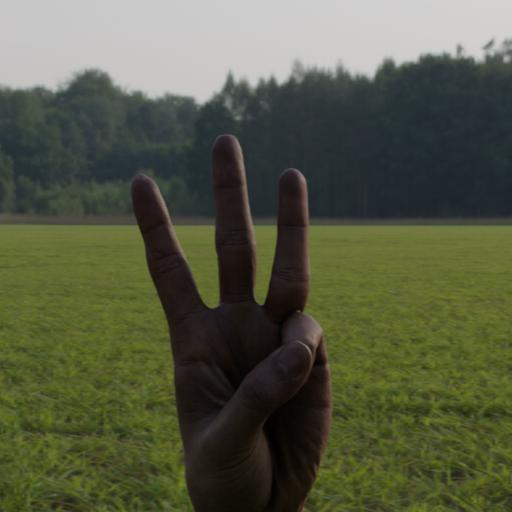W: (117, 130, 342, 512)
